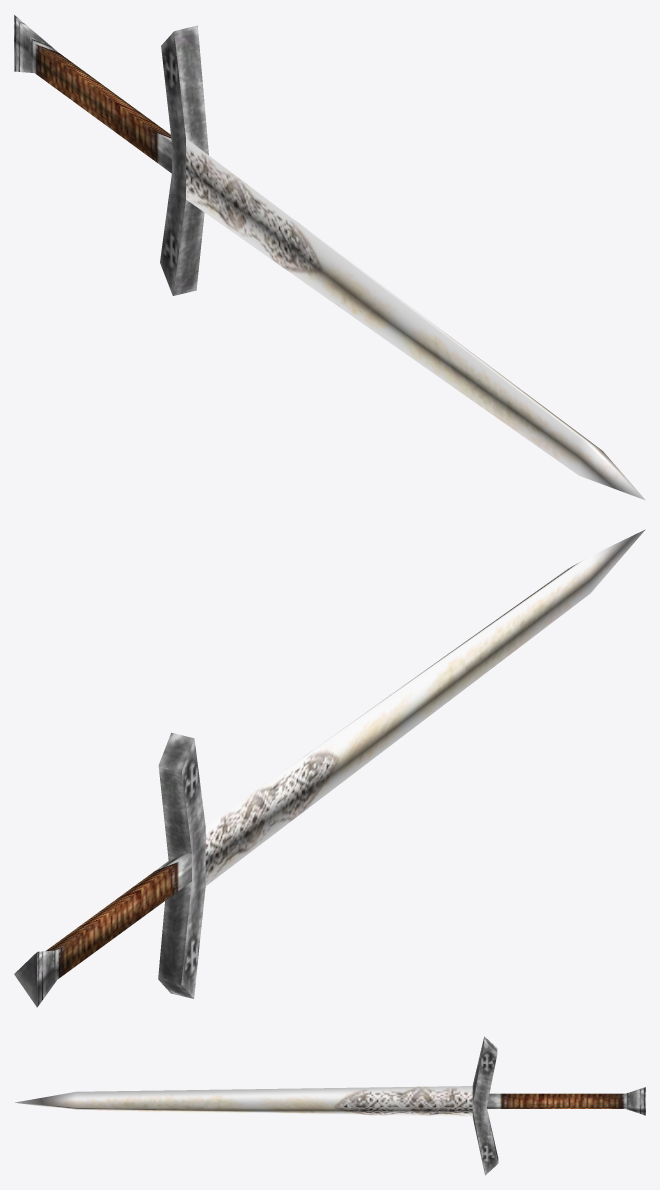
File: wp_sword13.glb
3 views of the same model, one above another, from view 1: azimuth 30°, elevation 25°; view 2: azimuth 150°, elevation 25°; view 3: azimuth 270°, elevation 25° (orthographic). The views are drawn at different scales.
Visible parts, largest first — view 1: wp_sword13-col; view 2: wp_sword13-col; view 3: wp_sword13-col.
Boxes of the visible parts, x1,y1,x2,y2 form: wp_sword13-col: [14, 15, 645, 500]; wp_sword13-col: [14, 529, 645, 1007]; wp_sword13-col: [15, 1036, 645, 1175].
Size of the model in its own units: 0.0276 by 0.2881 by 1.23.
1 material, 1 textured.
